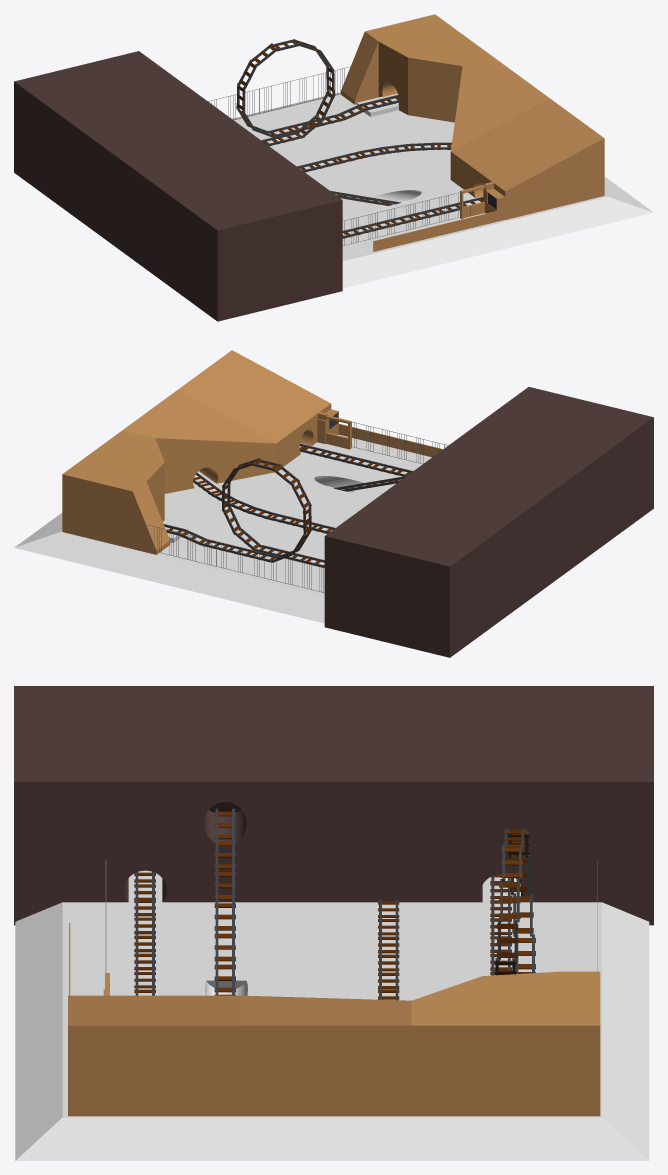
The model's file is Rollercoaster.glb.
The picture shows the model from 3 angles, top to bottom: view 1: azimuth 30°, elevation 25°; view 2: azimuth 150°, elevation 25°; view 3: azimuth 270°, elevation 25°; orthographic projection. The views are drawn at different scales.
Visible parts, largest first — view 1: Cube.065, Cube.064, Cube, Cube.496; view 2: Cube.065, Cube, Cube.064, Cube.496; view 3: Cube.065, Cube, Cube.064.
Part boxes in pixels (<box>): Cube.065: <box>14,51,342,321</box>; Cube.064: <box>341,14,604,219</box>; Cube: <box>232,92,653,288</box>; Cube.496: <box>373,182,505,251</box>; Cube.065: <box>324,387,653,657</box>; Cube: <box>14,434,431,623</box>; Cube.064: <box>62,350,331,554</box>; Cube.496: <box>317,409,442,457</box>; Cube.065: <box>14,686,653,925</box>; Cube: <box>15,870,649,1160</box>; Cube.064: <box>68,971,600,1116</box>.
Bounding box in the file's own units: 36.75 × 8.55 × 29.67.
